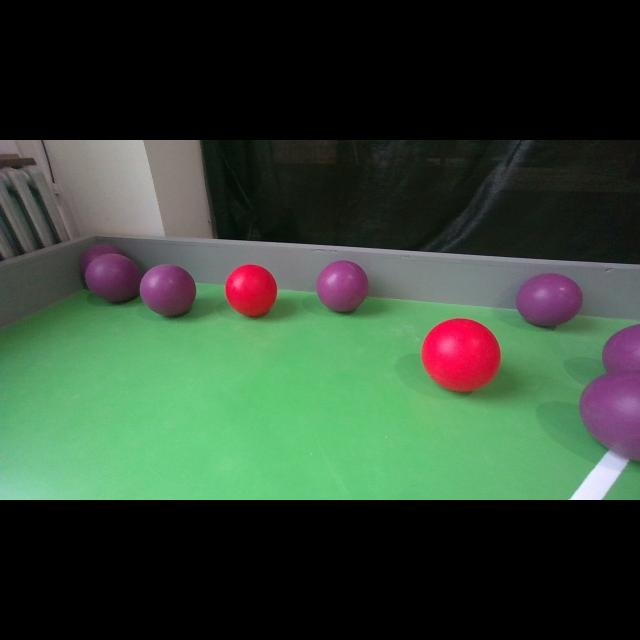P: (582, 375, 640, 451), (516, 273, 582, 327), (140, 264, 196, 316), (317, 260, 369, 312), (85, 254, 141, 302), (590, 328, 640, 374)
R: (422, 318, 501, 392), (225, 264, 277, 316)
